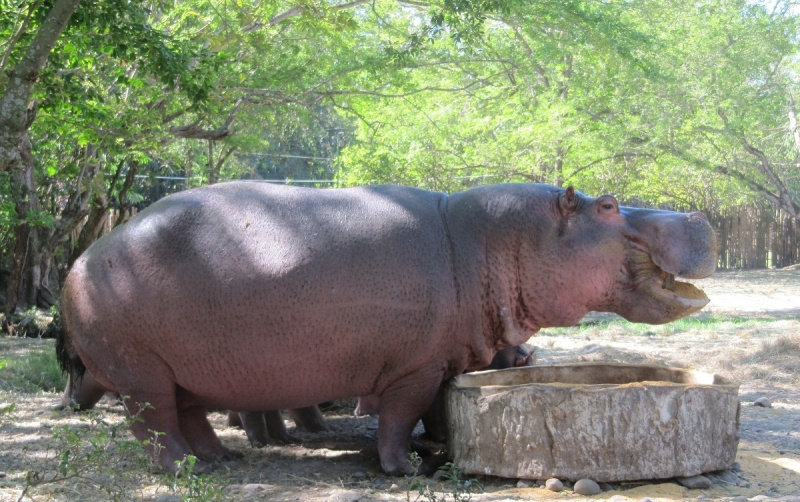hipopotamo: (42, 173, 722, 479)
